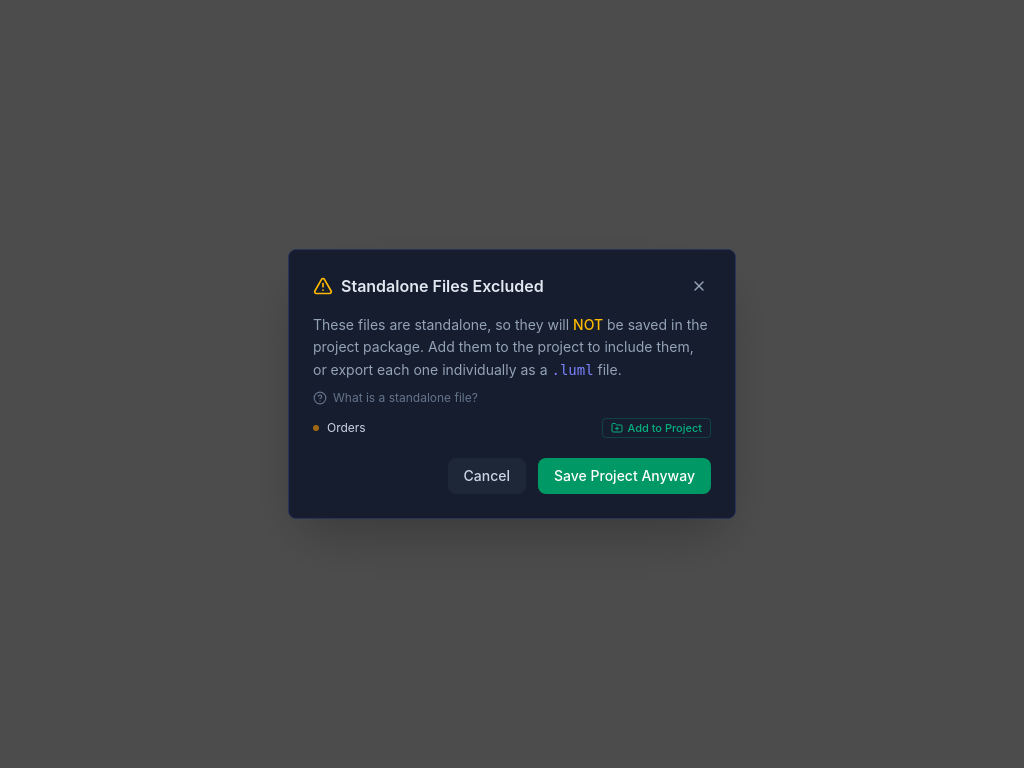
Test: SaveProjectWarningModal › lists each standalone with an Add-to-Project CTA and a Why explainer
expect the text "Orders" is shown: met, box [327,420,366,435]
expect the button "Add to Project" is shown: met, box [602,418,711,438]
Click the button "What is a standalone file?" at point(395, 398), box [313,390,478,406]
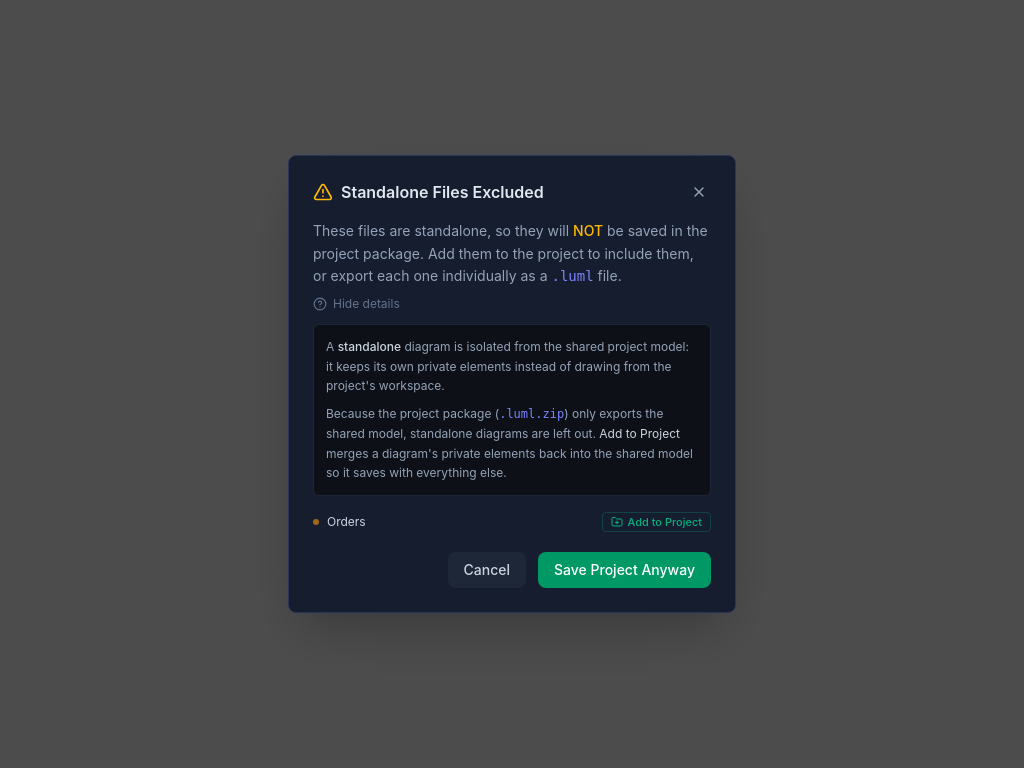
expect the text "isolated from the shared project model" is shown: met, box [326,339,689,393]
